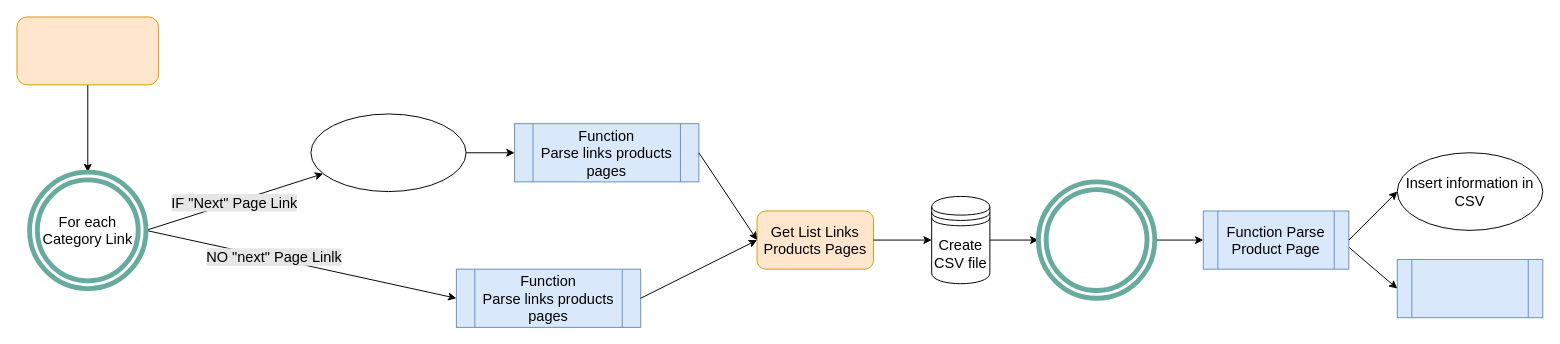
This 1560x344 diagram has some shape labels left out. Here are the shapes that lost their labels. From the top down, the box of each, then its label:
(16, 16, 159, 85): Get List Categories Links
(310, 113, 466, 192): Get Next Page Link
(1035, 179, 1157, 300): For Each Product Page
(1396, 259, 1543, 318): Function Save Image
